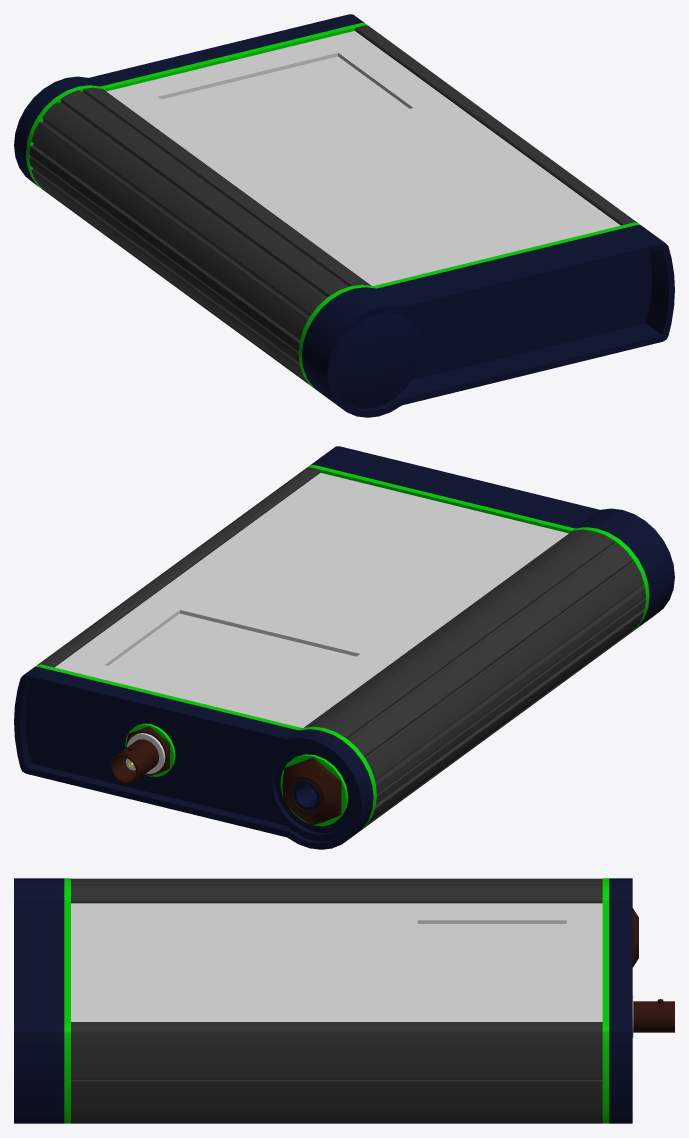
The model's file is Assistent_vibrometer.fbx.
The picture shows the model from 3 angles, top to bottom: view 1: azimuth 30°, elevation 25°; view 2: azimuth 150°, elevation 25°; view 3: azimuth 270°, elevation 25°; orthographic projection.
Parts seen in each view (by area): view 1: Korpus_Assistent, Control_panel, Screen; view 2: Korpus_Assistent, Control_panel, Screen; view 3: Korpus_Assistent, Control_panel, Screen.
Boxes of the visible parts, <box> form: Korpus_Assistent: <box>14,14,674,417</box>; Control_panel: <box>106,31,620,285</box>; Screen: <box>161,56,409,151</box>; Korpus_Assistent: <box>14,446,674,849</box>; Control_panel: <box>55,473,568,727</box>; Screen: <box>109,613,355,708</box>; Korpus_Assistent: <box>14,878,674,1123</box>; Control_panel: <box>71,903,602,1021</box>; Screen: <box>417,924,566,1007</box>.
Bounding box in the file's own units: 11.86 × 3.55 × 19.76.
